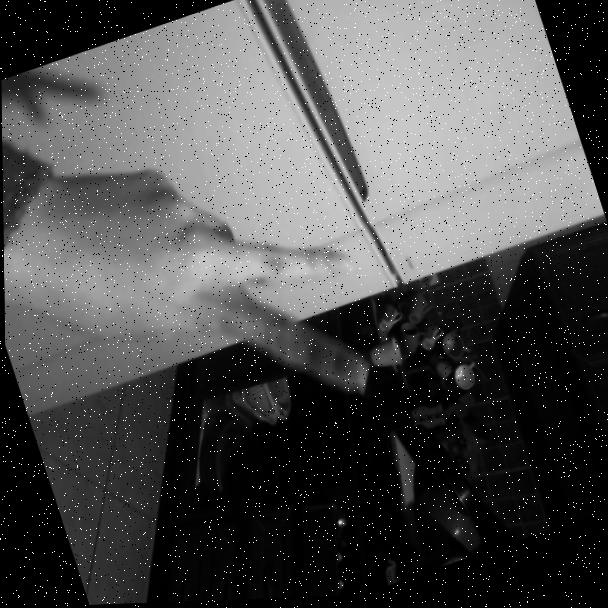two: (6, 109, 401, 489)
